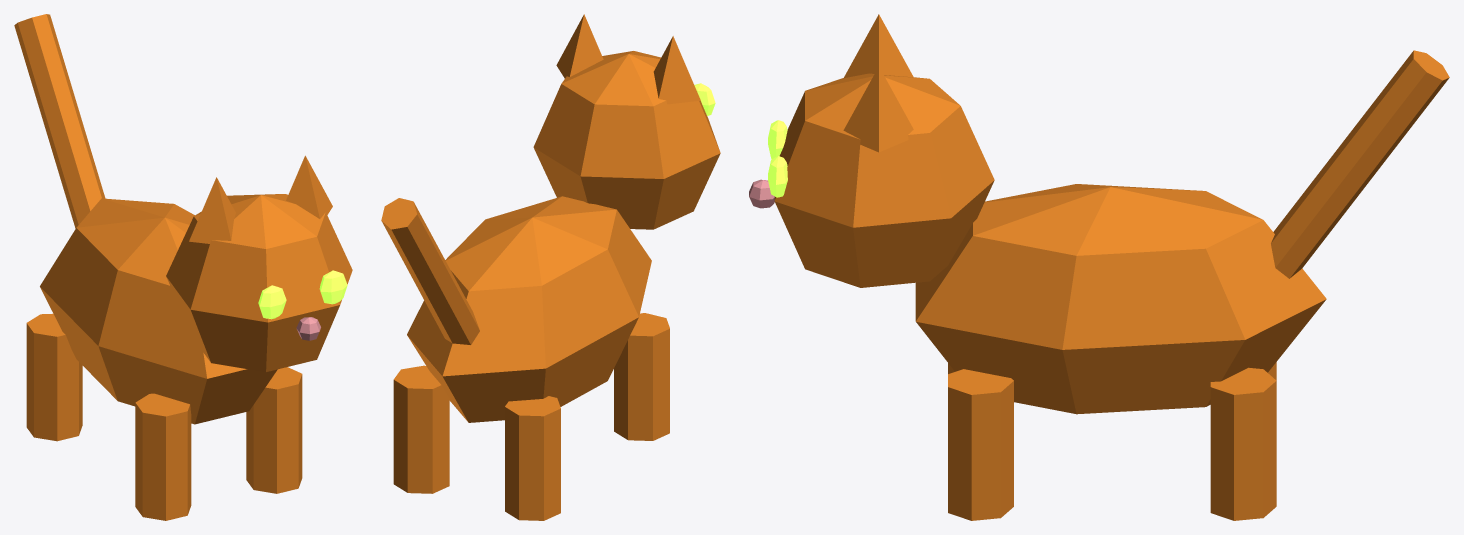
The model's file is cat-lod1.glb.
3 views of the same model, side by side, from view 1: azimuth 30°, elevation 25°; view 2: azimuth 150°, elevation 25°; view 3: azimuth 270°, elevation 25° (orthographic). The views are drawn at different scales.
Parts seen in each view (by area): view 1: cat; view 2: cat; view 3: cat.
Part boxes in pixels (<box>): cat: <box>14,14,352,520</box>; cat: <box>381,14,720,520</box>; cat: <box>749,14,1449,520</box>.
Bounding box in the file's own units: 0.312 × 0.62 × 0.9073.
